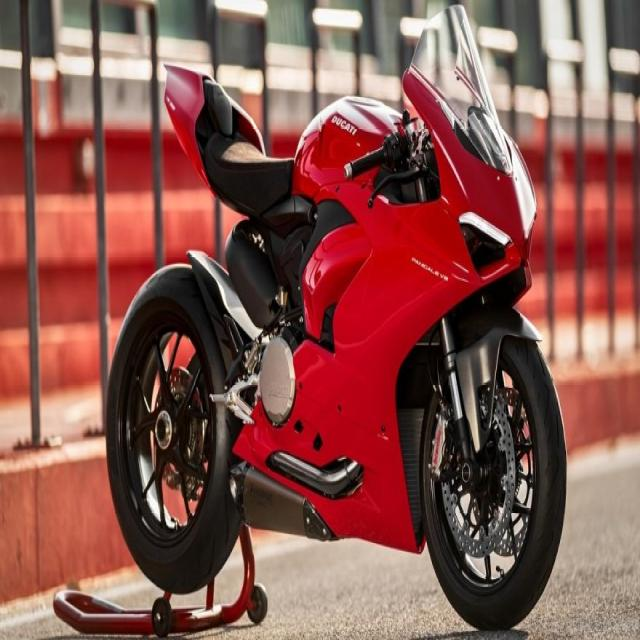Bike: (103, 3, 567, 634)
